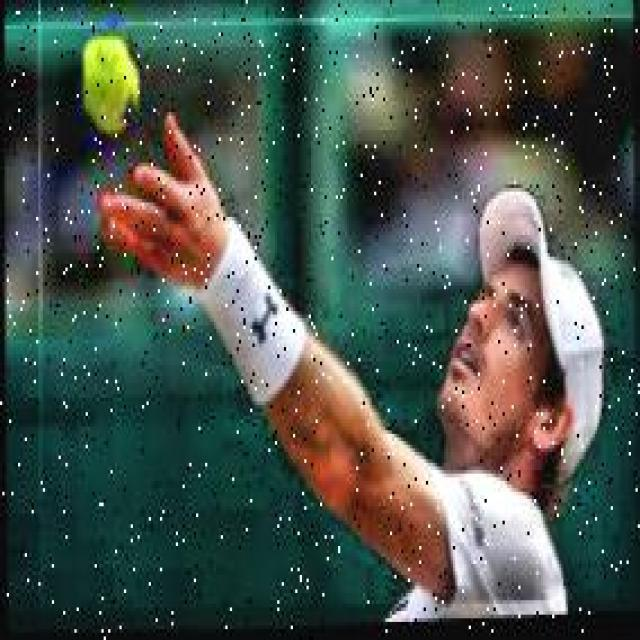tennis-ball: (84, 38, 138, 132)
